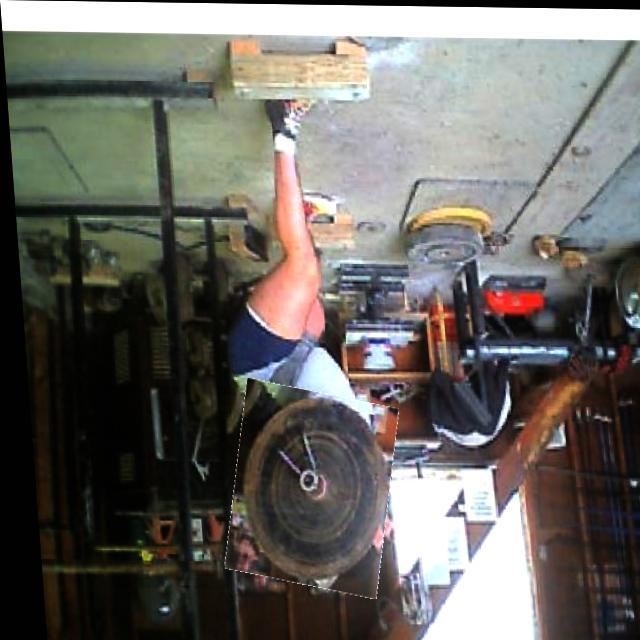barbell: (215, 384, 396, 593)
